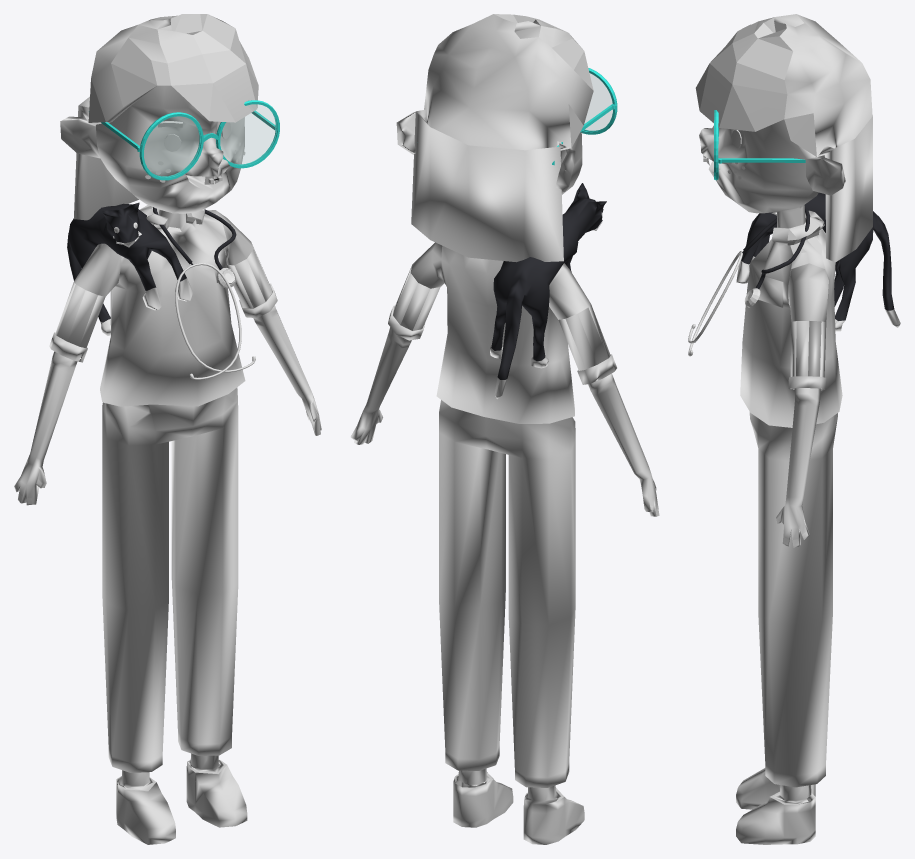
File: Zoe.fbx
3 views of the same model, side by side, from view 1: azimuth 30°, elevation 25°; view 2: azimuth 150°, elevation 25°; view 3: azimuth 270°, elevation 25° (orthographic).
Visible parts, largest first — view 1: CatMesh2_lambert1_0.001; view 2: CatMesh2_lambert1_0.001; view 3: CatMesh2_lambert1_0.001.
Part boxes in pixels (x1=…): CatMesh2_lambert1_0.001: x1=14, y1=14, x2=321, y2=844; CatMesh2_lambert1_0.001: x1=350, y1=14, x2=659, y2=844; CatMesh2_lambert1_0.001: x1=688, y1=14, x2=900, y2=844.
Bounding box in the file's own units: 155 × 393 × 95.27.
